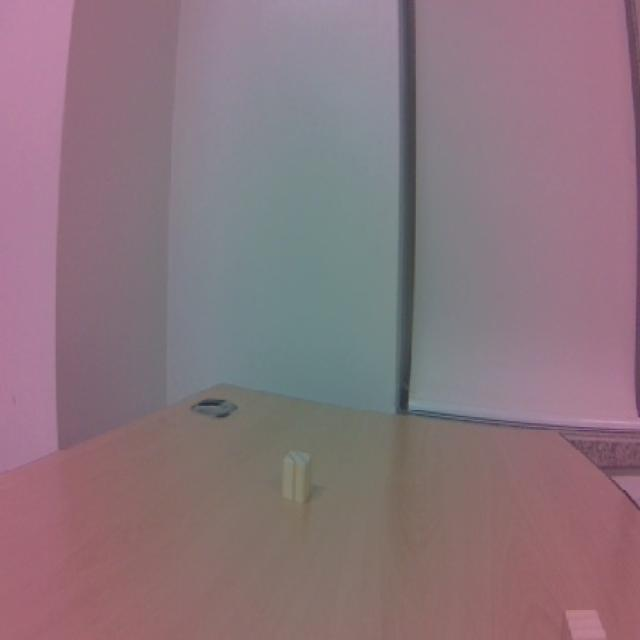obstacle: (268, 444, 330, 504)
